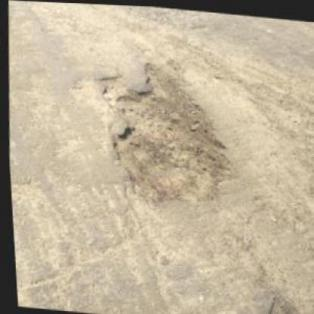Hueco: (88, 53, 244, 210), (255, 289, 313, 313)
